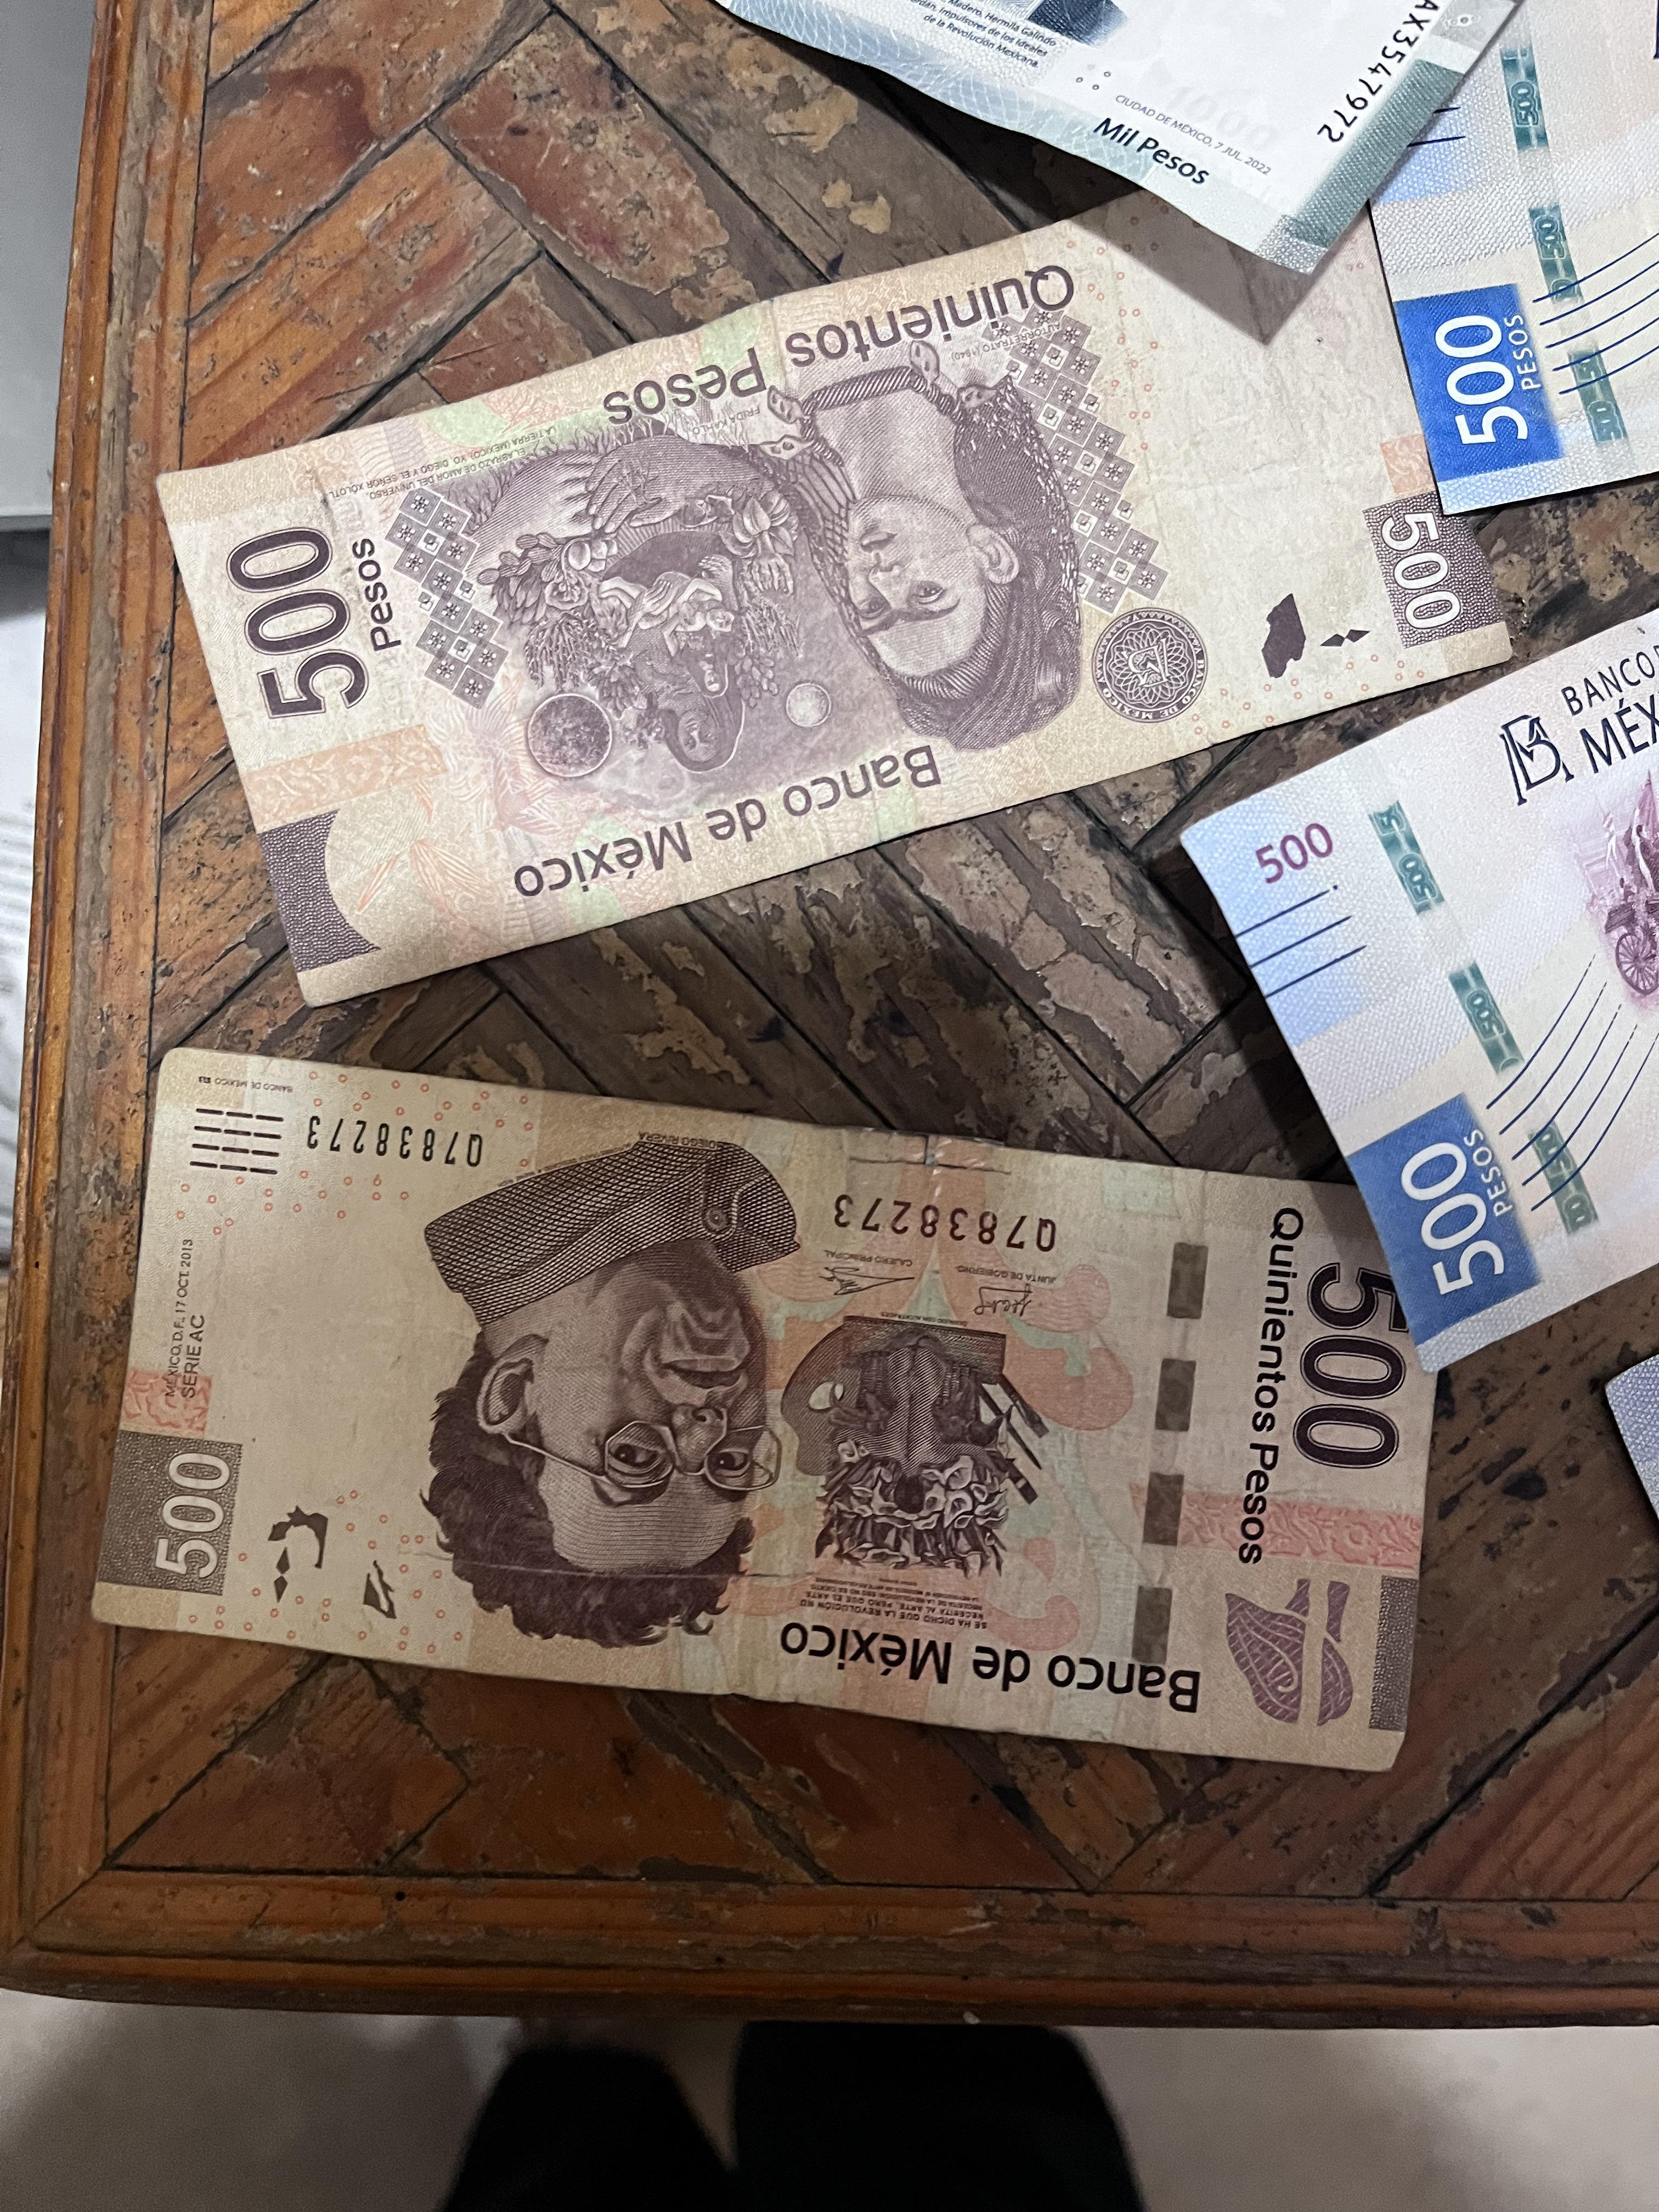500: (58, 140, 1555, 945), (55, 998, 1470, 1841)
500 nuevo: (1147, 565, 1659, 1359), (1385, 0, 1659, 524)
